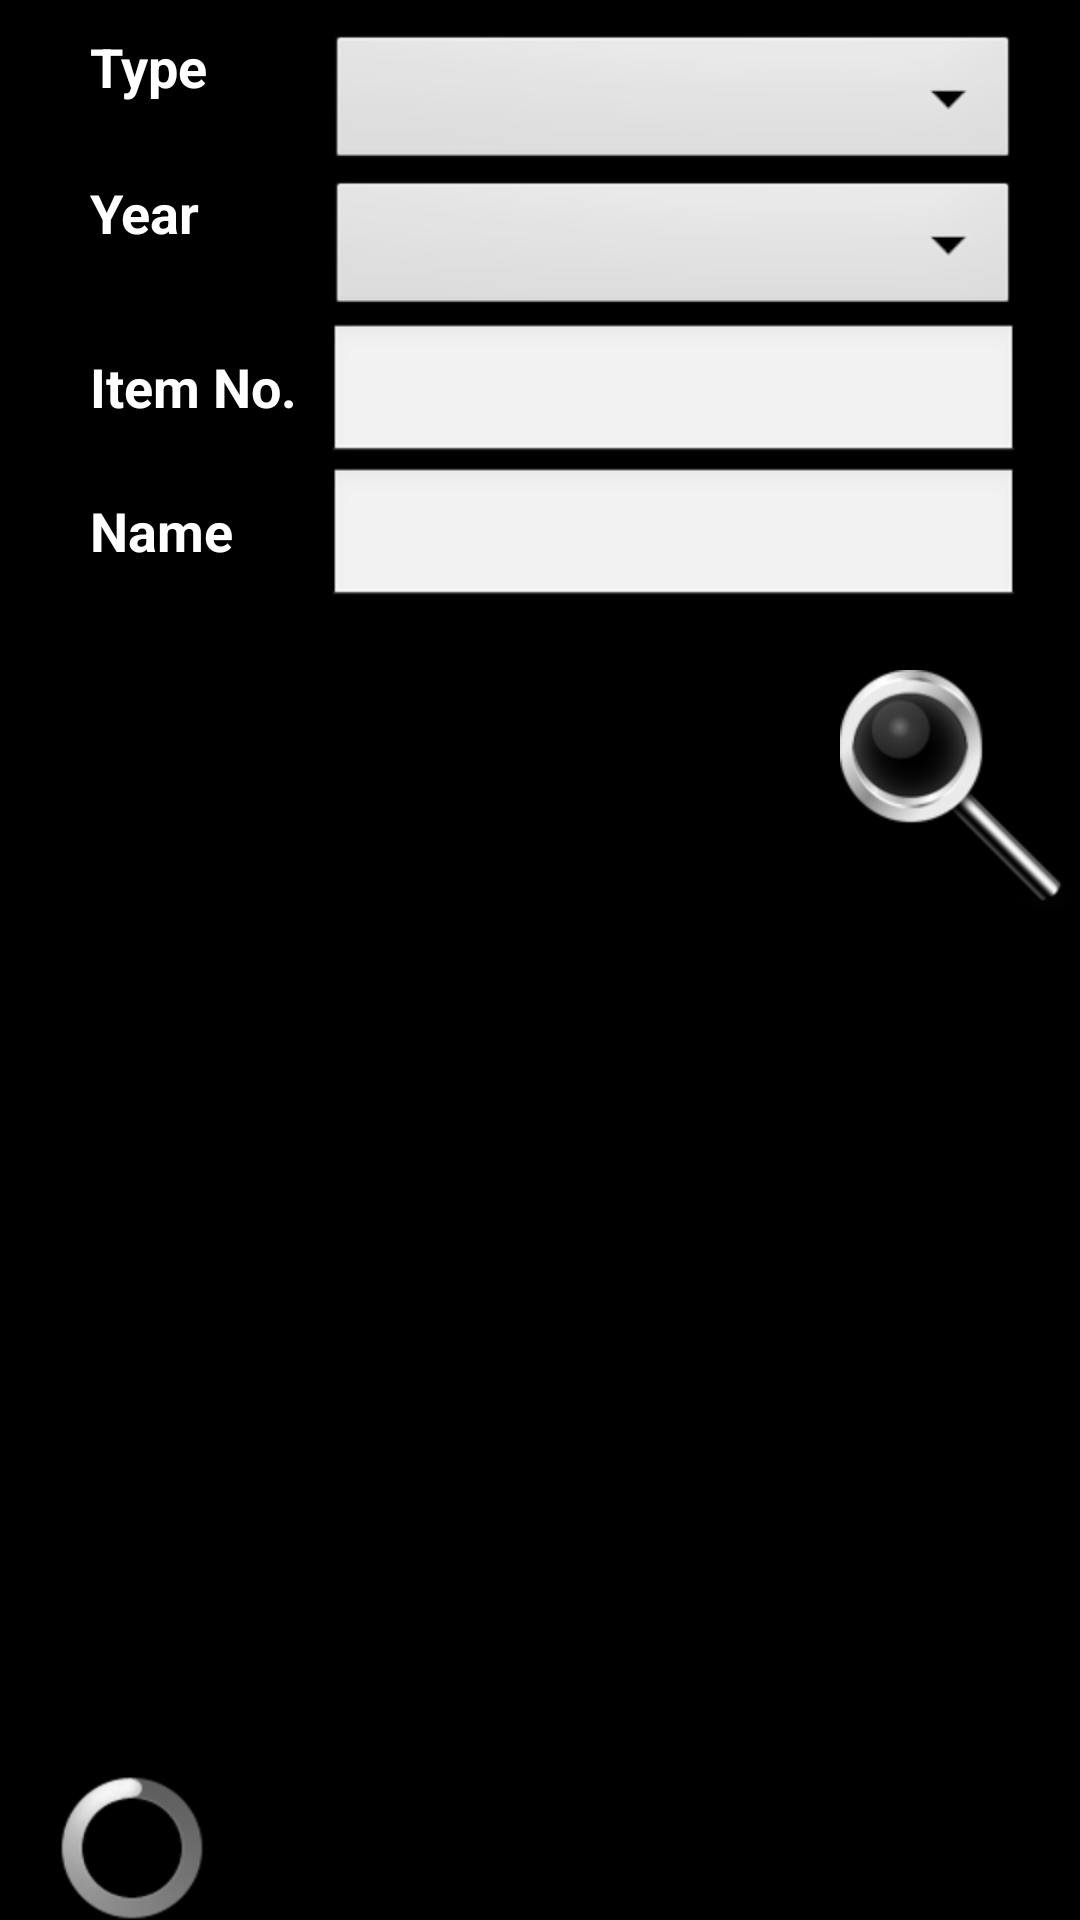

Icon click points for this 1080*1920 phone screenshot, format point (x, y):
search: point (950, 785)
